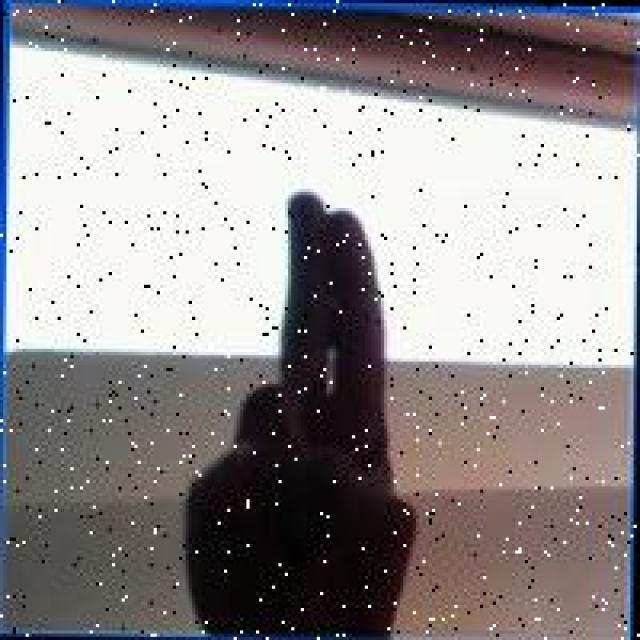U: (173, 165, 432, 629)
